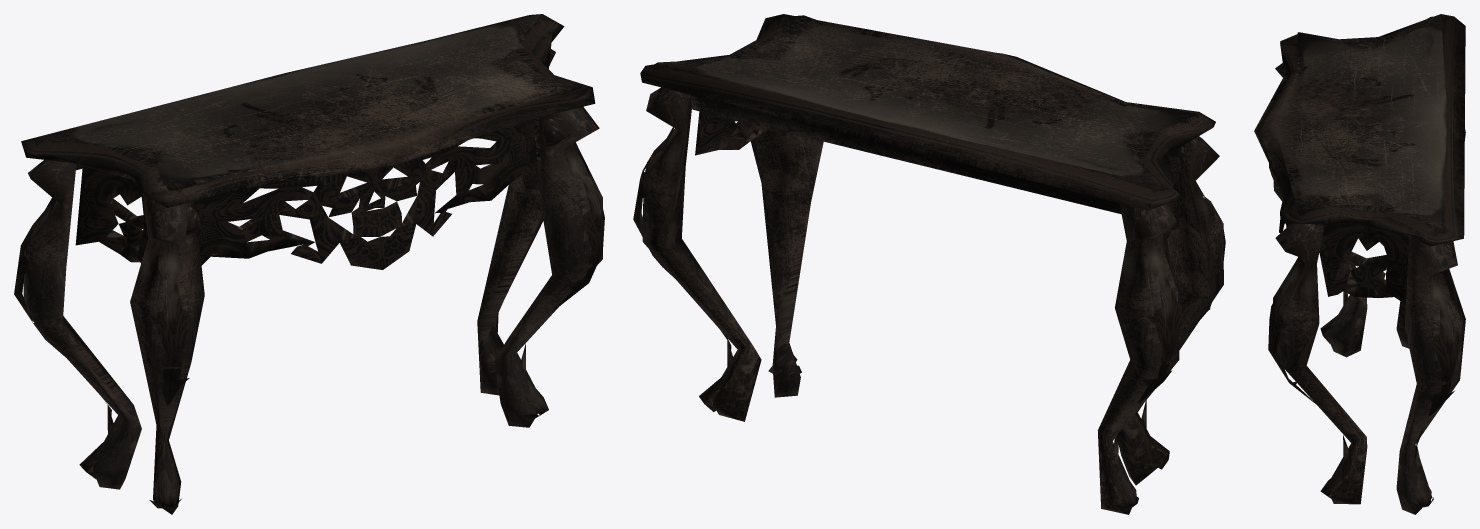
File: ClassicConsoleLOD2.fbx
3 renders of one model, left to right at view 1: azimuth 30°, elevation 25°; view 2: azimuth 150°, elevation 25°; view 3: azimuth 270°, elevation 25°, orthographic. The views are drawn at different scales.
Visible parts, largest first — view 1: ClassicConsole_01; view 2: ClassicConsole_01; view 3: ClassicConsole_01.
Part boxes in pixels (x1,y1,x2,y2): ClassicConsole_01: (14,14,604,514); ClassicConsole_01: (633,14,1225,514); ClassicConsole_01: (1254,14,1465,514).
Bounding box in the file's own units: 153 × 95.14 × 59.46.
